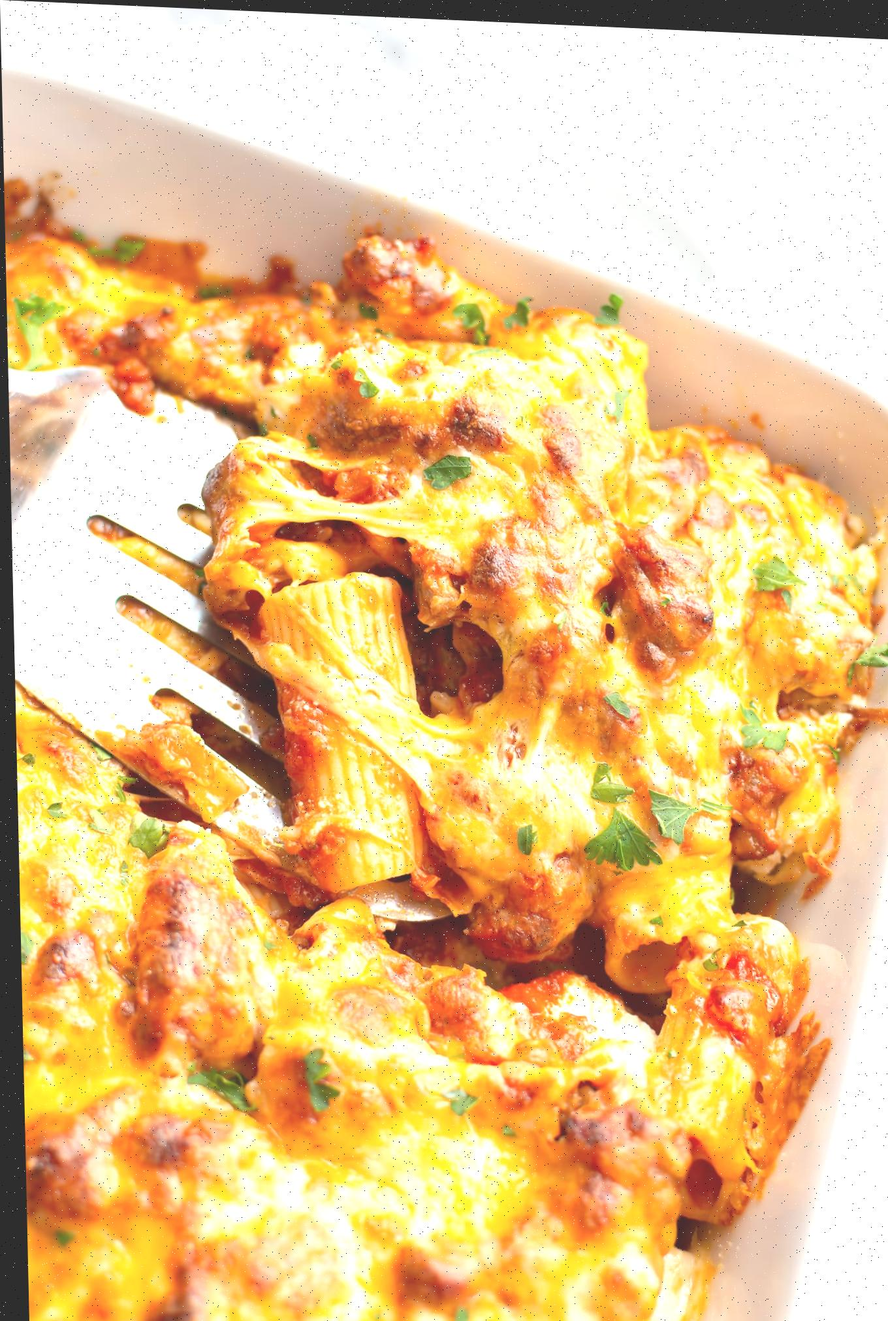pasta: (5, 201, 887, 1320)
